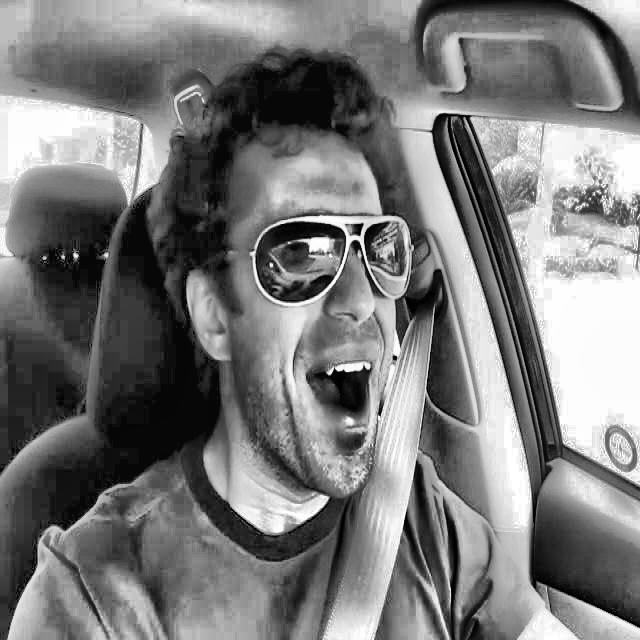open_mouth: (296, 336, 388, 454)
